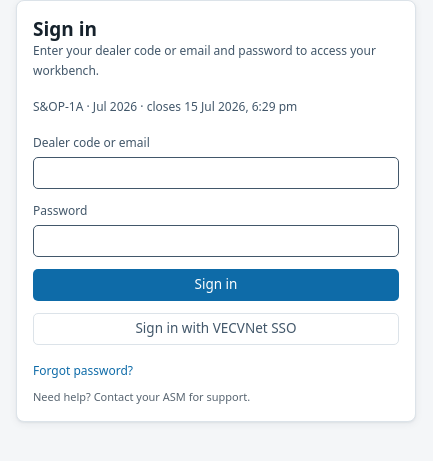
Test: LoginForm › shows the identifier field error for an unrecognised dealer code
Type "unknown-dealer" into the field labelled "Dealer code or email" at (216, 173), box 33,157 -> 399,189
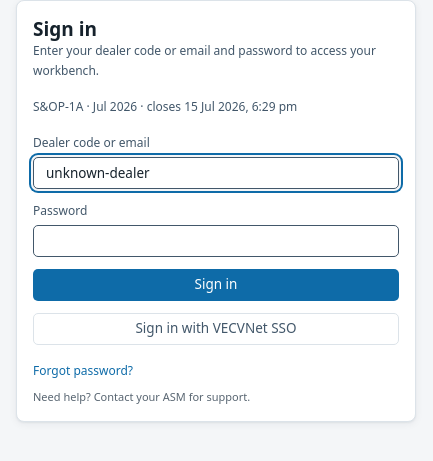
Type "demo-pass" into the password field labelled "Password" at (216, 241), box 33,225 -> 399,257
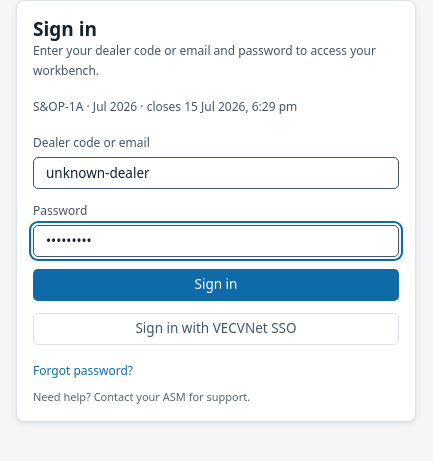
Click the button "Sign in" at (216, 285), box 33,269 -> 399,301
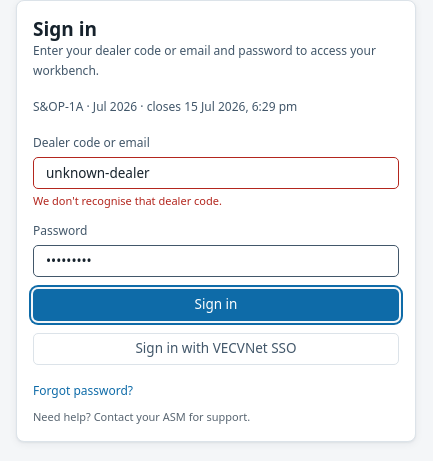
Expected: the text "We don't recognise that dealer code." is shown, 33,193 -> 222,208
